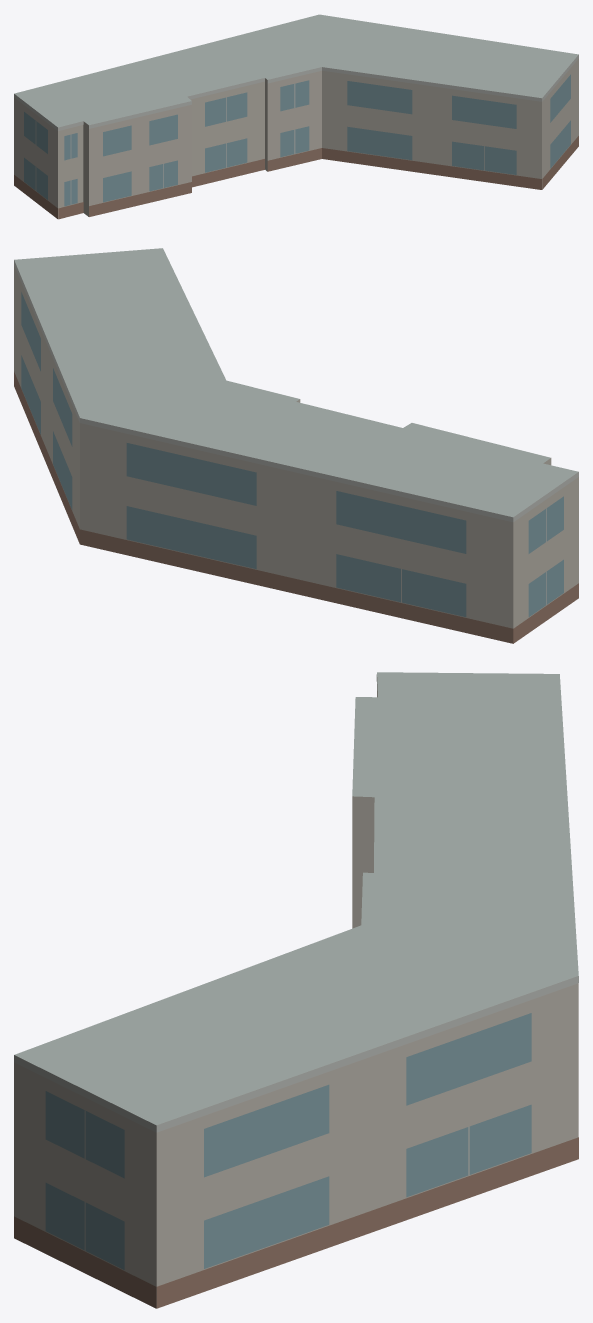
Rendered from survey-upis-32836809.glb.
3 renders of one model, top to bottom at view 1: azimuth 30°, elevation 25°; view 2: azimuth 150°, elevation 25°; view 3: azimuth 270°, elevation 25°, orthographic. The views are drawn at different scales.
Parts seen in each view (by area): view 1: survey-upis-32836809.tmp; view 2: survey-upis-32836809.tmp; view 3: survey-upis-32836809.tmp.
Part boxes in pixels (<box>): survey-upis-32836809.tmp: <box>14,14,578,219</box>; survey-upis-32836809.tmp: <box>14,248,578,643</box>; survey-upis-32836809.tmp: <box>14,672,578,1308</box>.
Bounding box in the file's own units: 32.35 × 6.1 × 17.04.
